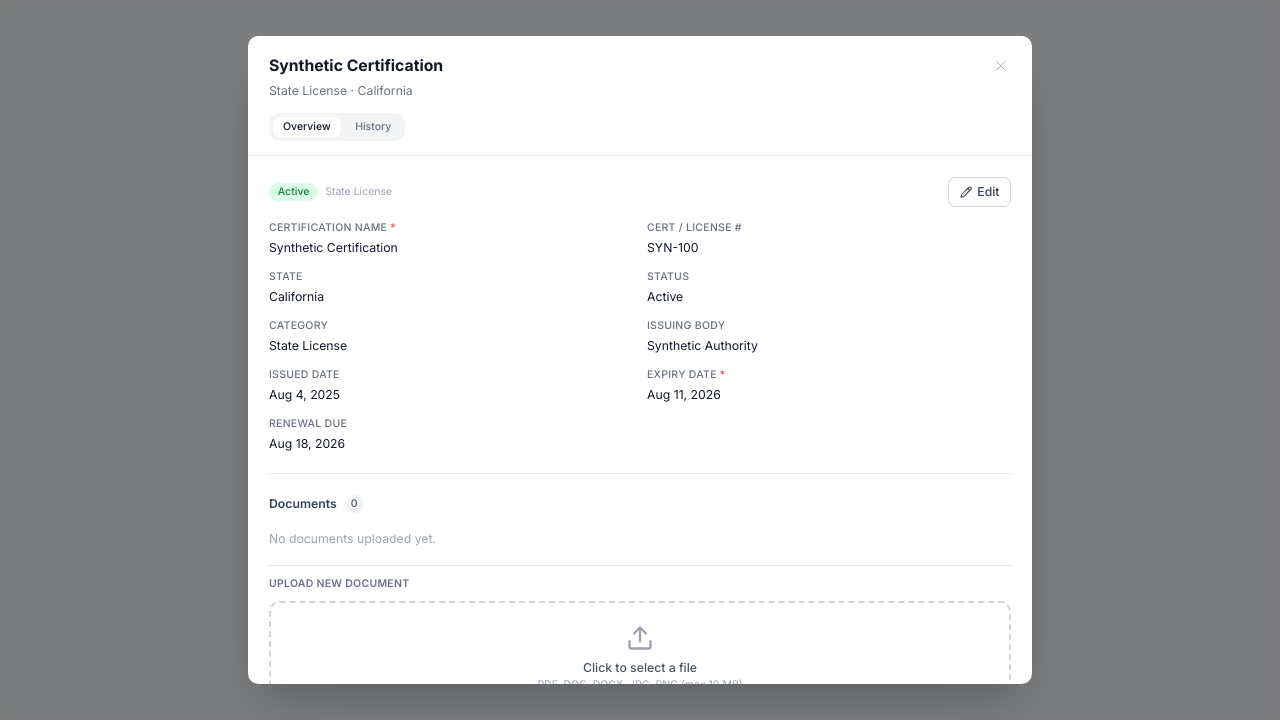
Test: uses shared client validation and displays server field errors inline
This screenshot has width=1280, height=720.
Click the button "Edit".
click(980, 192)  # box [948,177,1011,207]
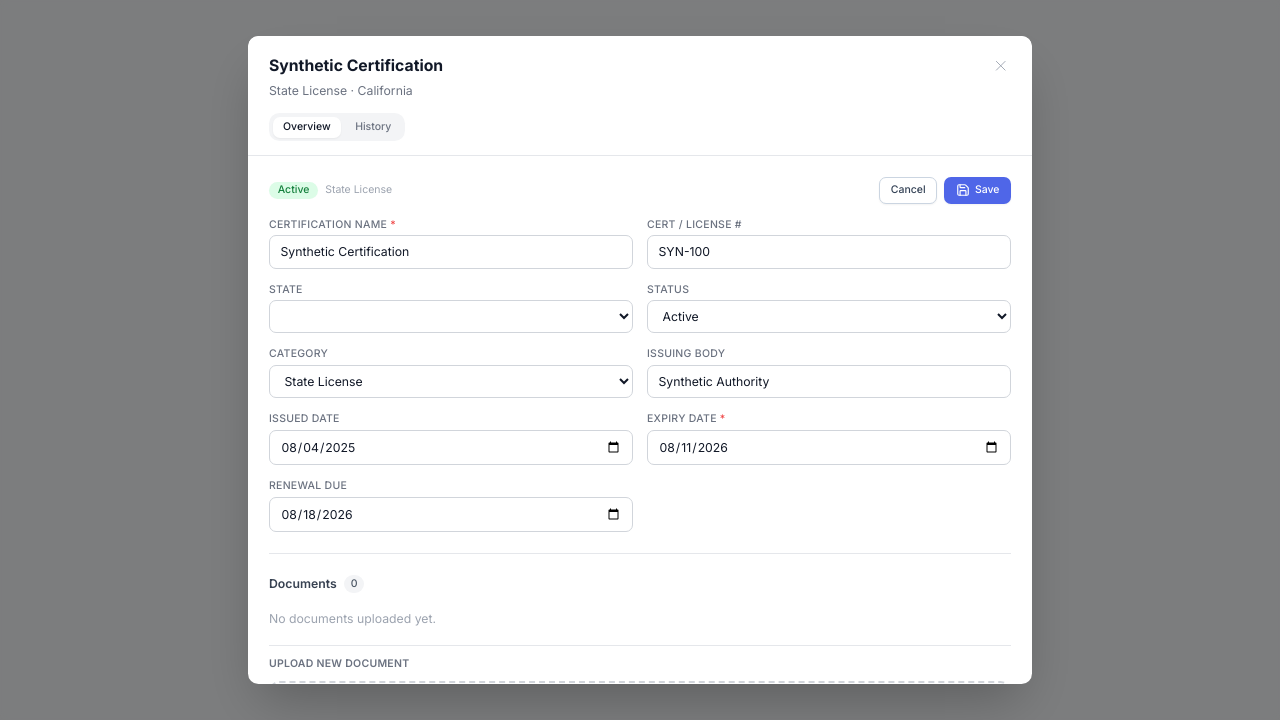
Clear the field labelled "Certification Name *" at [451, 252], box [269,235,633,268]
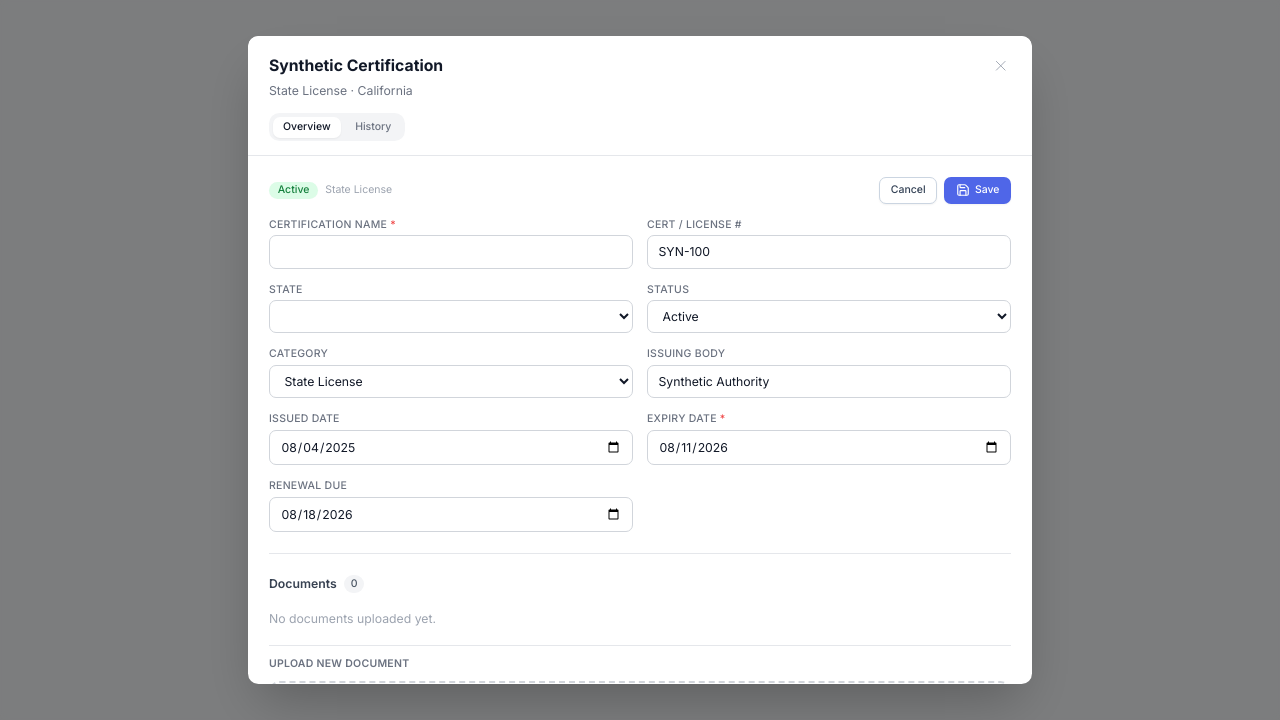
Click the button "Save".
click(978, 190)  # box [944,177,1011,204]
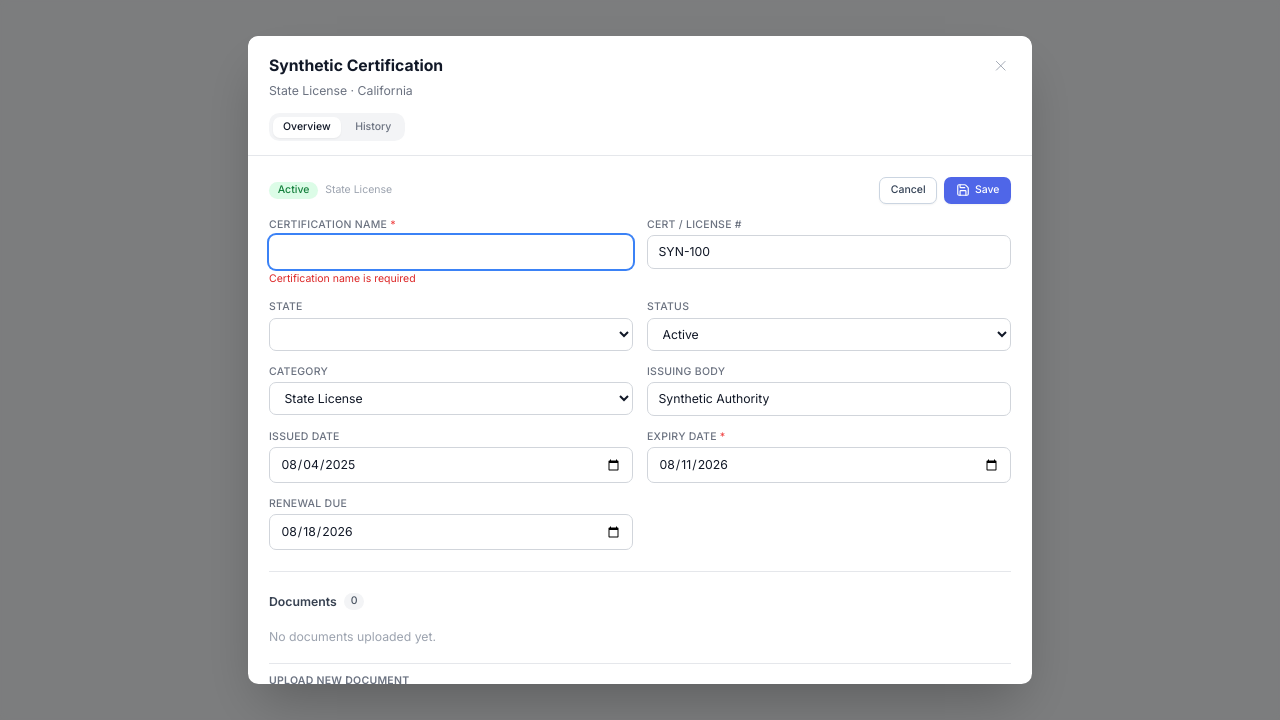
Check: the text "Certification name is required" is shown, box [269,272,416,285]
Type "Synthetic Updated Certification" into the field labelled "Certification Name *".
click(451, 252); type("Synthetic Updated Certification")  # box [269,235,633,268]
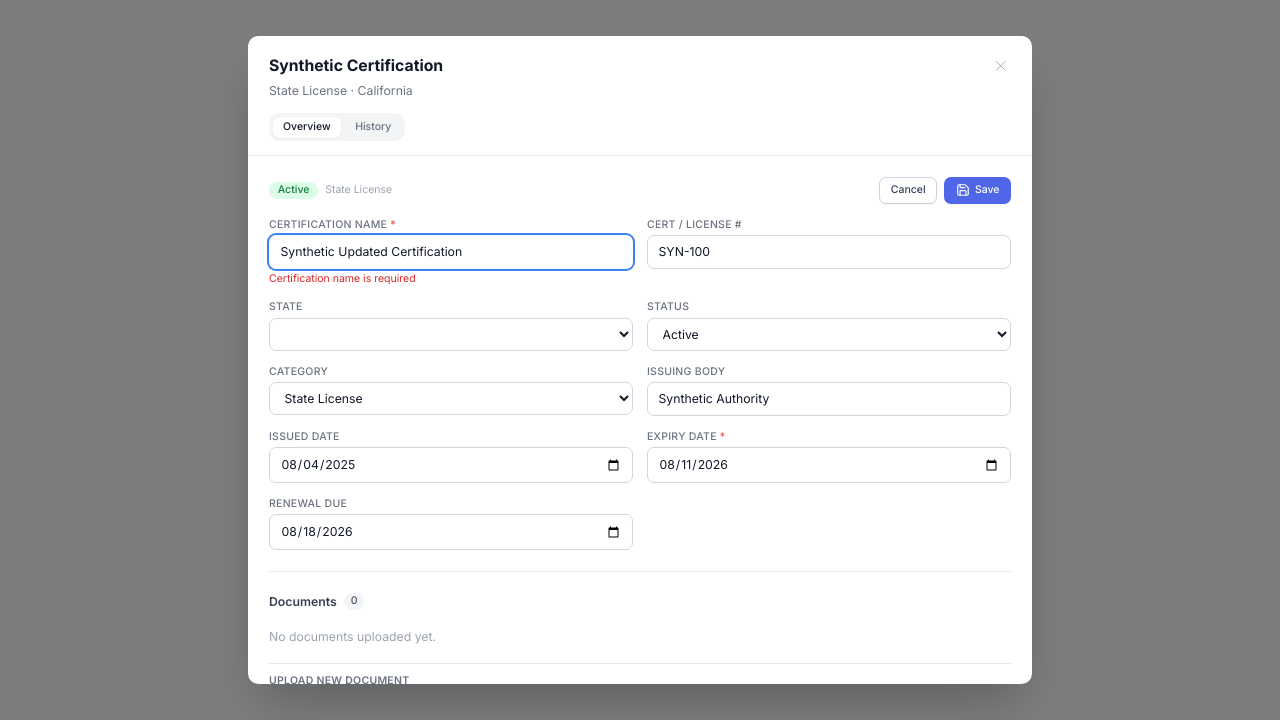
Click the button "Save".
click(978, 190)  # box [944,177,1011,204]
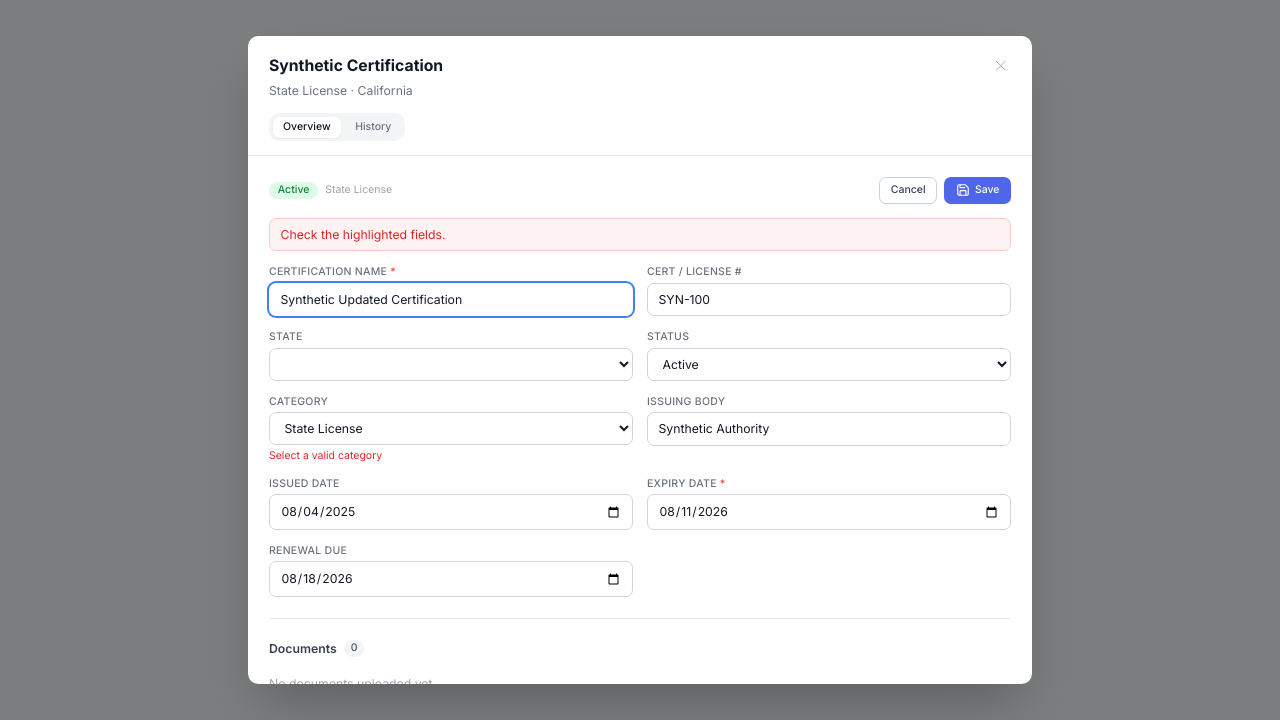
Check: the text "Select a valid category" is shown, box [269,448,382,462]
